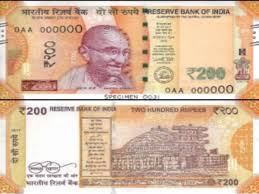twoHundred: (17, 19, 239, 86)
